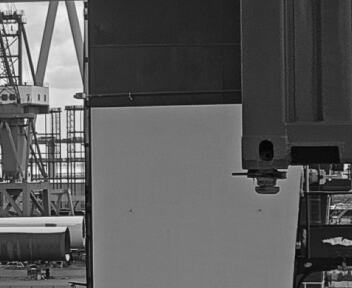twist_lock_1: (241, 163, 291, 201)
